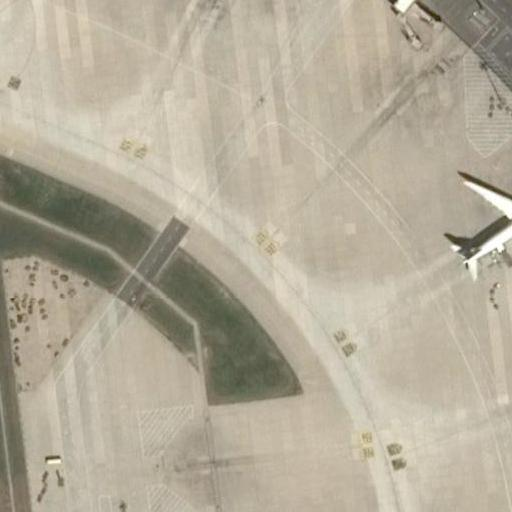Aircraft: (439, 151, 512, 289), (511, 312, 512, 429)
